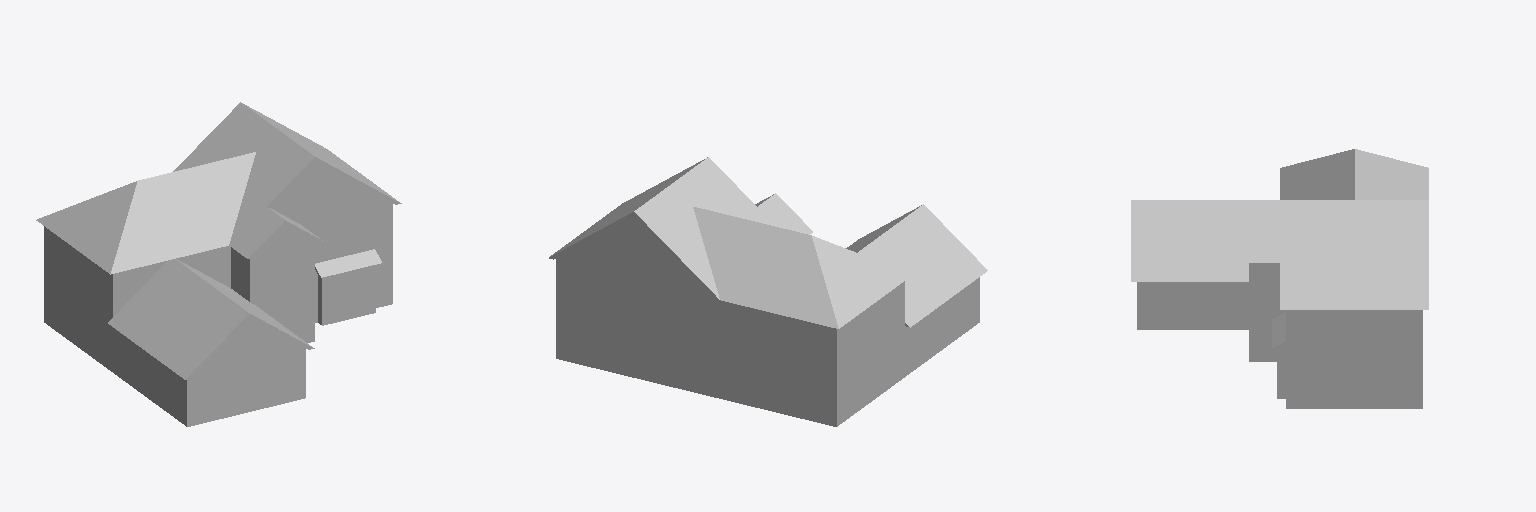
Rendered from Res_Contemporary_01.obj.
3 views of the same model, side by side, from view 1: azimuth 30°, elevation 25°; view 2: azimuth 150°, elevation 25°; view 3: azimuth 270°, elevation 25° (orthographic).
Parts seen in each view (by area): view 1: Mesh34 Model; view 2: Mesh34 Model; view 3: Mesh34 Model.
Boxes of the visible parts, box(x1,y1,x2,y2) form: Mesh34 Model: box(36, 102, 401, 426); Mesh34 Model: box(549, 157, 987, 426); Mesh34 Model: box(1131, 149, 1428, 408).
Size of the model in its own units: 16.46 by 9.14 by 14.63.